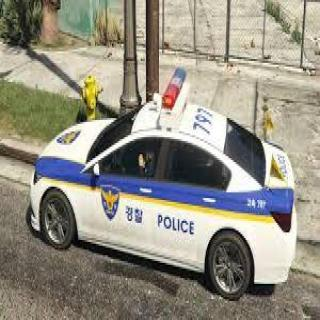Police_car: (30, 72, 298, 294)
